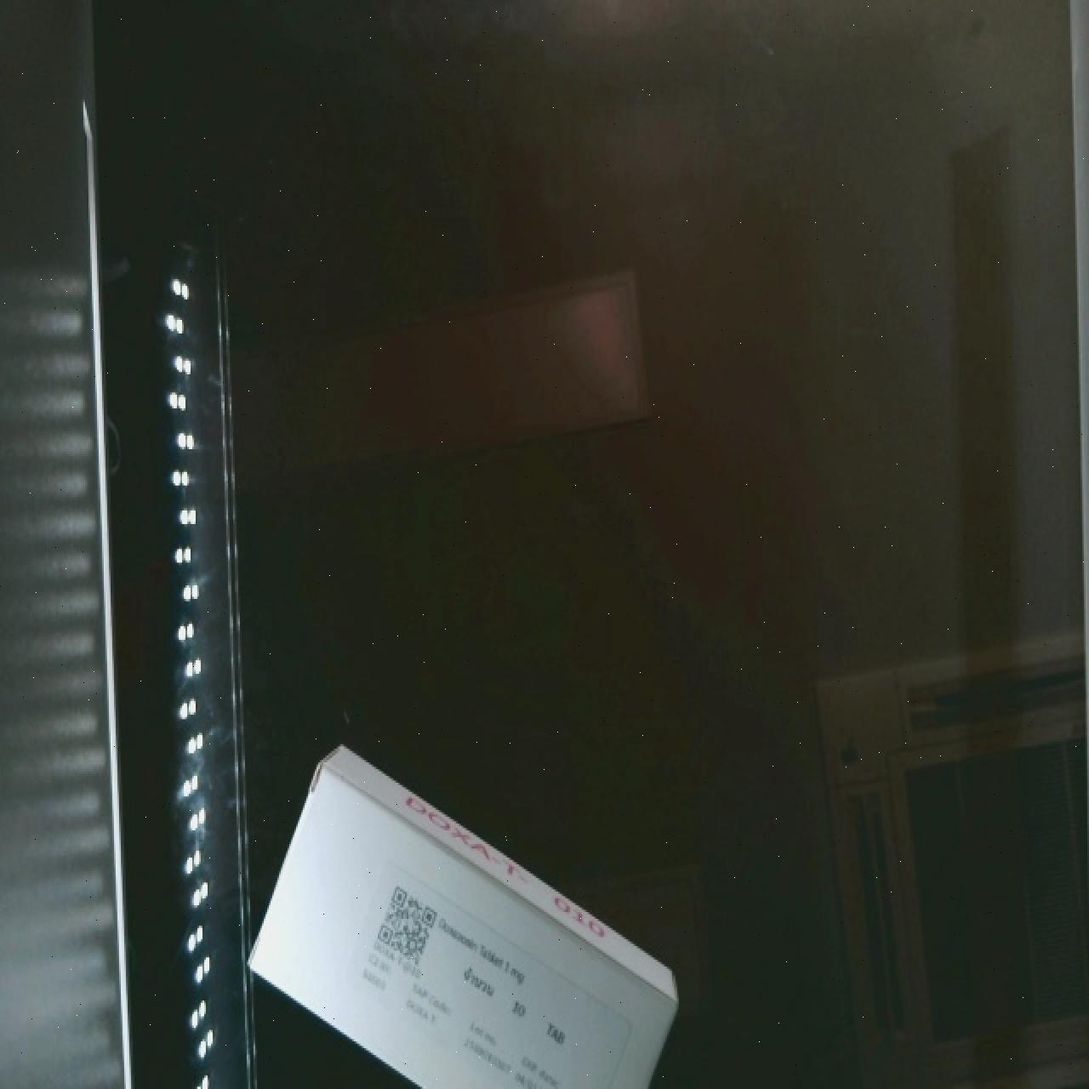qr_code: (341, 857, 467, 995)
